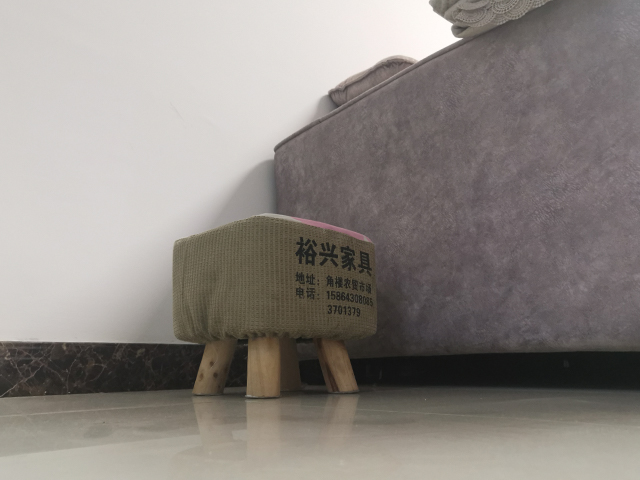sofa: (269, 1, 640, 388)
stool: (169, 210, 381, 400)
